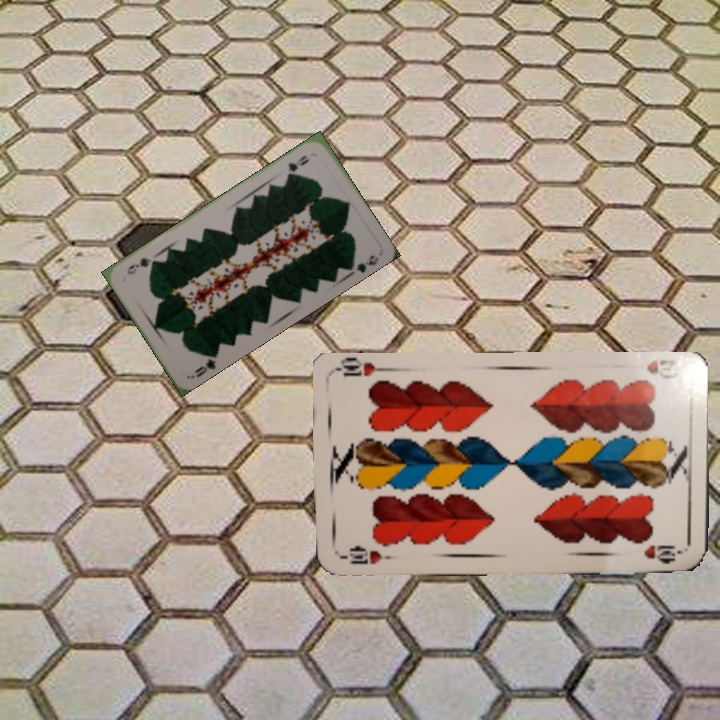G9: (187, 350, 220, 381), (283, 151, 312, 178)
H10: (336, 543, 385, 567), (643, 356, 684, 382)
